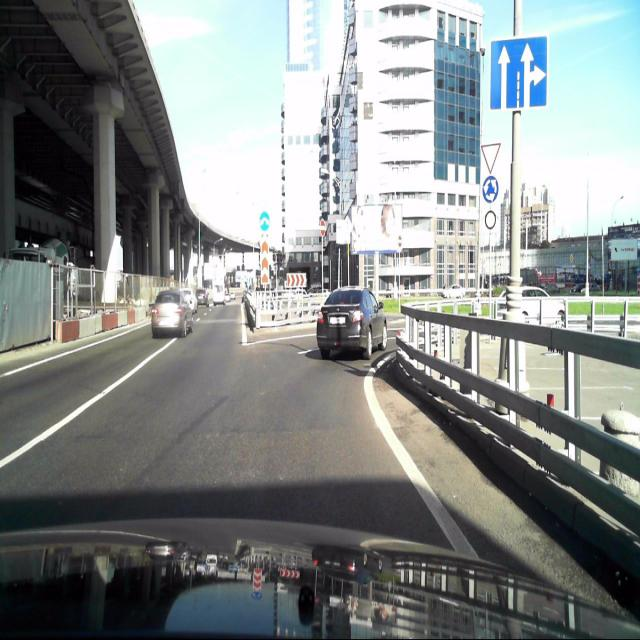road sign: (490, 40, 548, 109), (481, 140, 499, 174), (483, 205, 497, 233)
